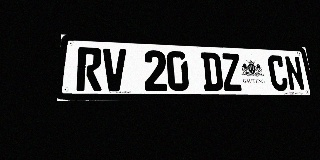0: (166, 51, 189, 91)
2: (144, 50, 167, 91)
C: (267, 55, 289, 91)
D: (201, 52, 224, 91)
N: (284, 56, 306, 91)
R: (76, 47, 102, 91)
V: (102, 48, 126, 91)
Z: (220, 53, 243, 91)
